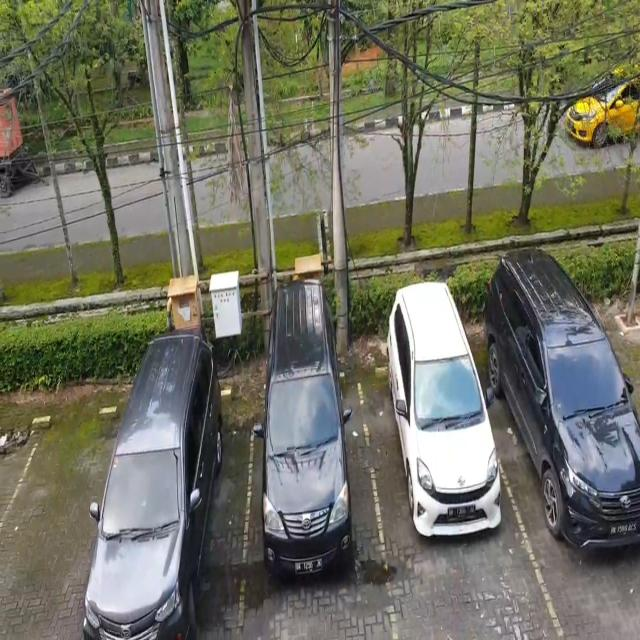occupied: (83, 406, 250, 640), (510, 301, 640, 588), (378, 327, 512, 597), (245, 370, 376, 640)
